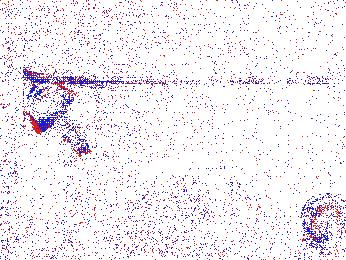flame jellyfish: (25, 82, 91, 157), (199, 176, 263, 231), (299, 192, 346, 244)
